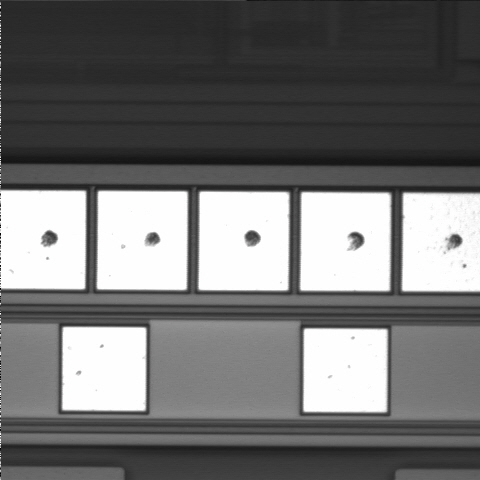pad: (300, 192, 391, 291), (97, 191, 187, 290), (199, 192, 289, 290), (62, 327, 146, 411), (304, 329, 387, 412)
